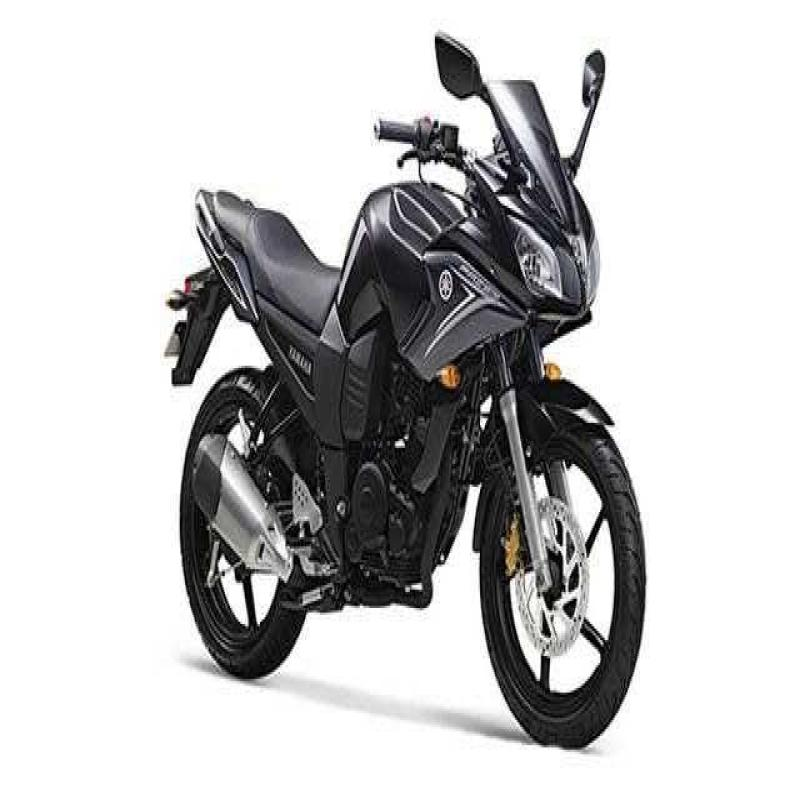bike: (148, 21, 680, 750)
